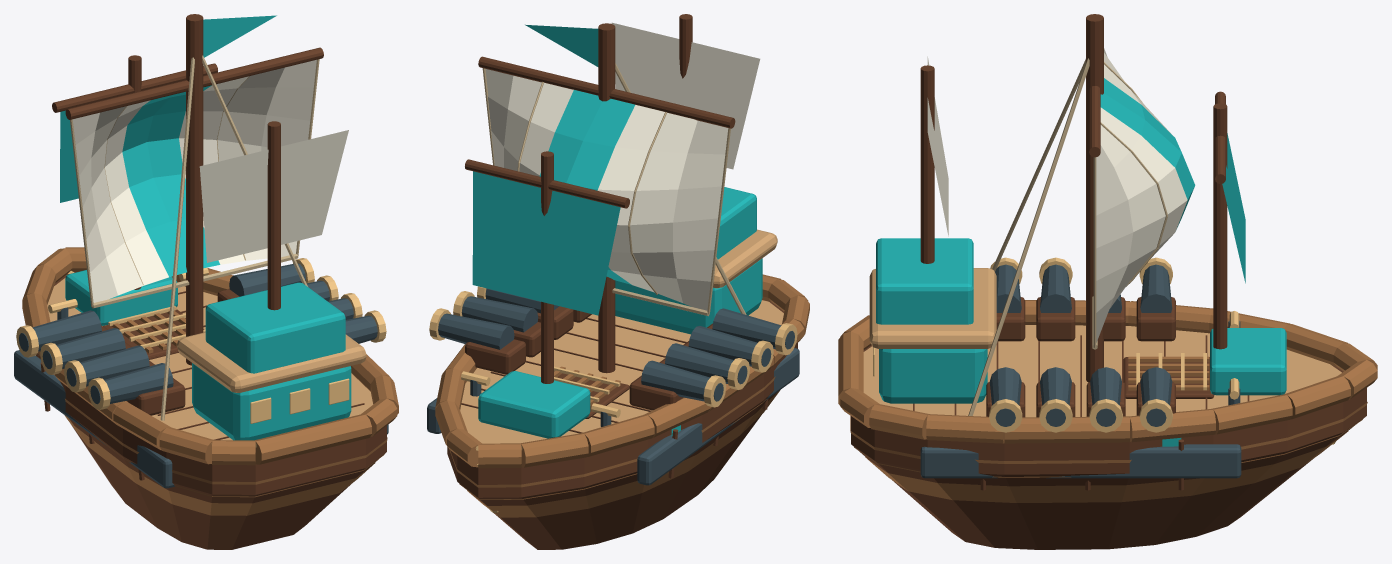
Rendered from ship-stage-4.glb.
3 renders of one model, left to right at view 1: azimuth 30°, elevation 25°; view 2: azimuth 150°, elevation 25°; view 3: azimuth 270°, elevation 25°, orthographic. The views are drawn at different scales.
Visible parts, largest first — view 1: Ship Sail ivory.003, Ship Walnut.003, Ship Team teal.003, Ship Hull amber.003, Ship Honey teak.003, Ship Rope flax.003, Ship Cannon iron.003, Ship Brass.003, Broadside barrel.012, Broadside barrel.013, Broadside barrel.014, Broadside barrel.015 (+7 smaller); view 2: Ship Sail ivory.003, Ship Team teal.003, Ship Walnut.003, Ship Hull amber.003, Ship Honey teak.003, Ship Cannon iron.003, Ship Rope flax.003, Broadside barrel.019, Broadside barrel.018, Broadside barrel.015, Broadside barrel.013, Broadside barrel.012 (+11 smaller); view 3: Ship Walnut.003, Ship Hull amber.003, Ship Team teal.003, Ship Sail ivory.003, Ship Honey teak.003, Ship Cannon iron.003, Ship Rope flax.003, Broadside barrel.015, Broadside barrel.013, Cannon carriage.013, Cannon carriage.015, Broadside barrel.019 (+11 smaller).
Boxes of the visible parts, box(x1,y1,x2,y2) form: Ship Sail ivory.003: box(72, 59, 348, 302); Ship Walnut.003: box(36, 14, 386, 549); Ship Team teal.003: box(60, 15, 351, 440); Ship Hull amber.003: box(22, 247, 398, 515); Ship Honey teak.003: box(47, 272, 373, 440); Ship Rope flax.003: box(70, 55, 319, 420); Ship Cannon iron.003: box(14, 307, 388, 488); Ship Brass.003: box(48, 267, 349, 447); Broadside barrel.012: box(104, 363, 173, 403); Broadside barrel.013: box(80, 345, 149, 386); Broadside barrel.014: box(56, 328, 125, 368); Broadside barrel.015: box(32, 310, 101, 351); Ship Sail ivory.003: box(485, 22, 760, 310); Ship Team teal.003: box(472, 24, 762, 438); Ship Walnut.003: box(447, 14, 797, 549); Ship Hull amber.003: box(435, 274, 809, 517); Ship Honey teak.003: box(460, 229, 783, 443); Ship Cannon iron.003: box(427, 348, 799, 485); Ship Rope flax.003: box(482, 63, 746, 316); Broadside barrel.019: box(438, 313, 514, 349); Broadside barrel.018: box(461, 296, 538, 332); Broadside barrel.015: box(641, 360, 709, 401); Broadside barrel.013: box(688, 326, 757, 366); Broadside barrel.012: box(712, 308, 781, 349); Ship Walnut.003: box(851, 14, 1366, 549); Ship Hull amber.003: box(838, 300, 1377, 502); Ship Team teal.003: box(876, 133, 1286, 446); Ship Sail ivory.003: box(927, 48, 1195, 342); Ship Honey teak.003: box(863, 268, 1341, 417); Ship Cannon iron.003: box(920, 321, 1241, 478); Ship Rope flax.003: box(968, 58, 1167, 415); Broadside barrel.015: box(1140, 264, 1172, 312); Broadside barrel.013: box(1040, 264, 1071, 312); Cannon carriage.013: box(1036, 297, 1075, 341); Cannon carriage.015: box(1136, 297, 1175, 341); Broadside barrel.019: box(1140, 367, 1172, 405).
Bounding box in the file's own units: 3.04 × 4.86 × 4.76.
